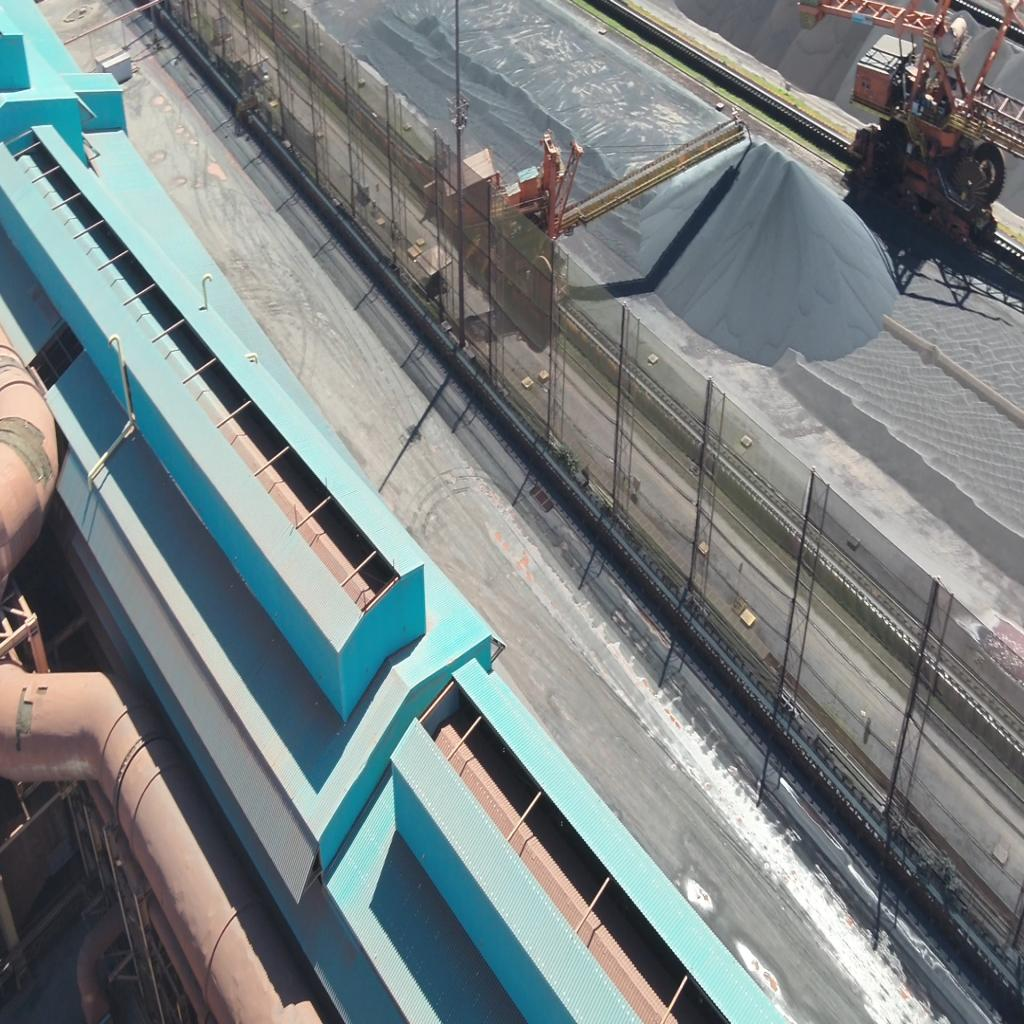Failures: (0, 396, 51, 508), (15, 684, 35, 757), (36, 676, 50, 704)
